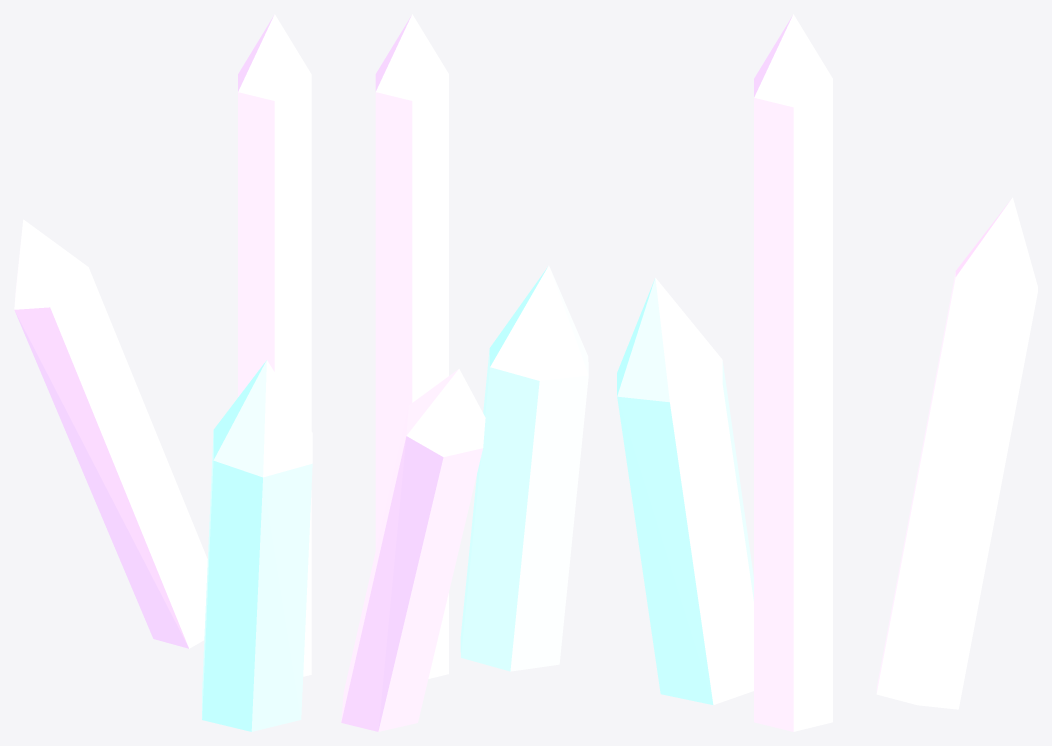
File: crystal_small.glb
3 renders of one model, left to right at view 1: azimuth 30°, elevation 25°; view 2: azimuth 150°, elevation 25°; view 3: azimuth 270°, elevation 25°, orthographic. The views are drawn at different scales.
Visible parts, largest first — view 1: crystal_small; view 2: crystal_small; view 3: crystal_small.
Boxes of the visible parts, x1=… form: crystal_small: x1=14, y1=14, x2=312, y2=731; crystal_small: x1=341, y1=14, x2=588, y2=731; crystal_small: x1=617, y1=14, x2=1037, y2=731.
Bounding box in the file's own units: 0.1311 × 0.4034 × 0.2201.
